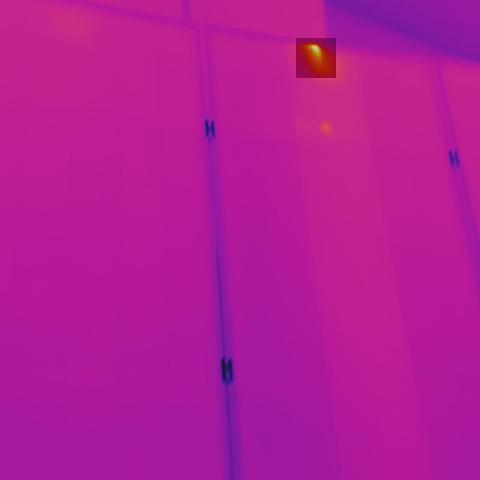fault: (296, 38, 336, 78)
